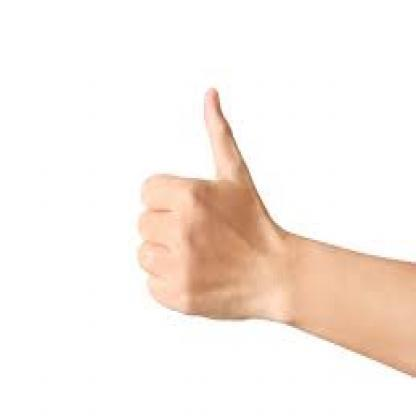thumb_up: (136, 81, 290, 324)
